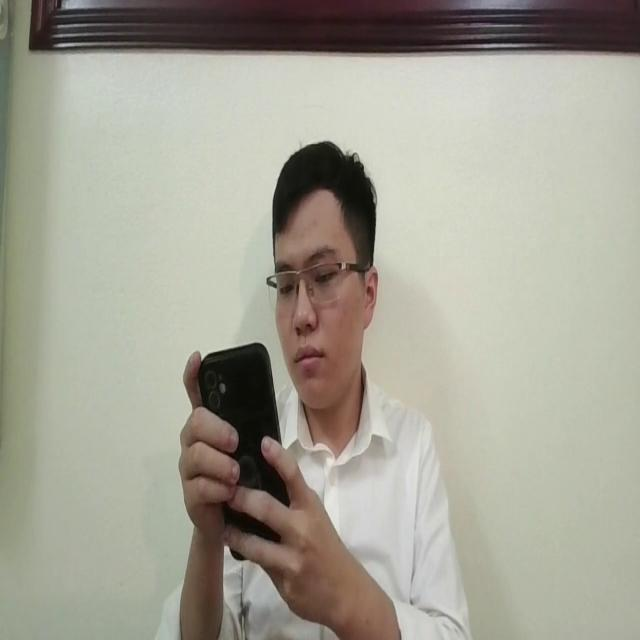phone: (198, 342, 292, 562)
student: (150, 139, 467, 640)
